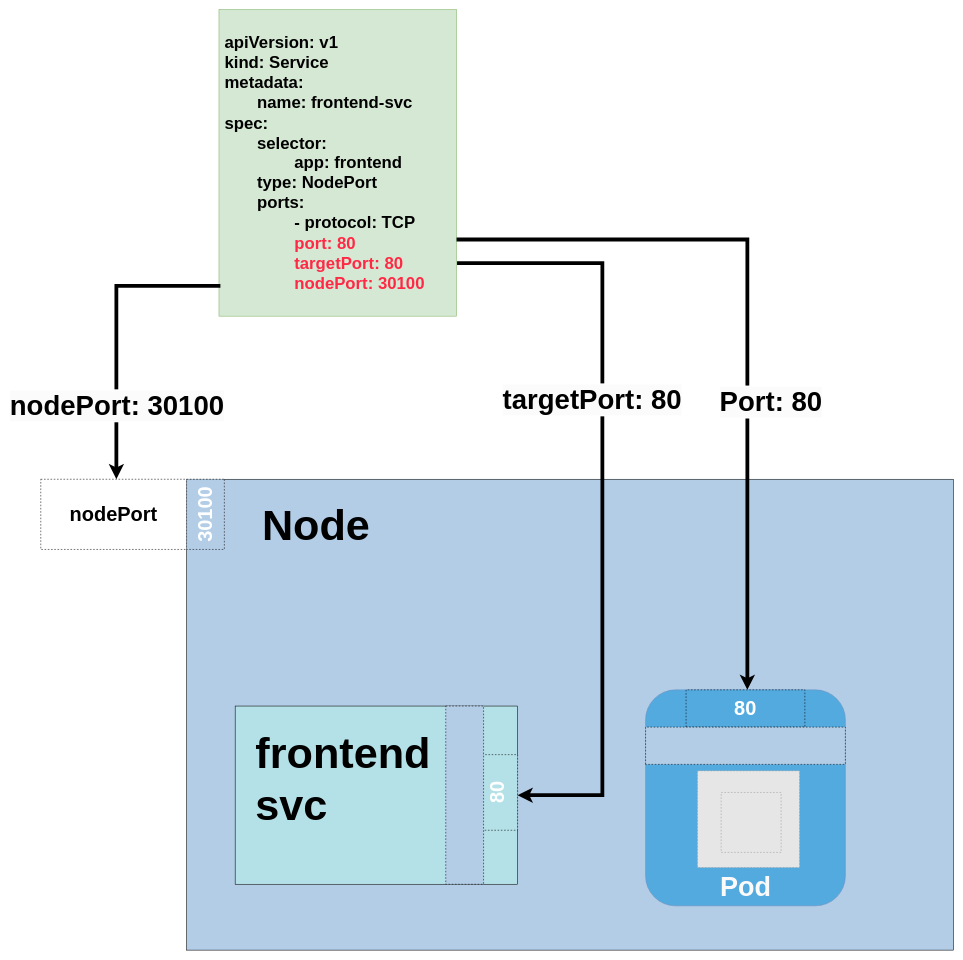
This 963x960 diagram has some shape labels left out. Grey dashed boxes stand in for pictures. The centre of each missing label's shape, as x and y in pixels:
10.X.X.X: pixel 745 745
10.Y.Y.Y: pixel 464 795
